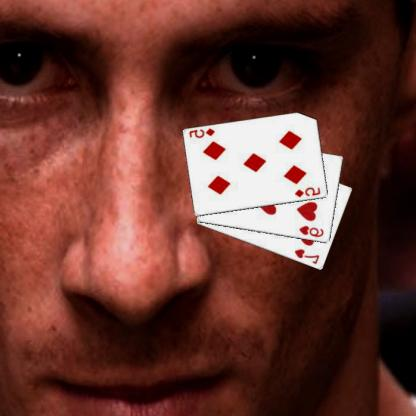5D: (294, 185, 324, 198), (188, 126, 218, 139)
6H: (298, 224, 326, 238)
7H: (294, 247, 322, 265)
